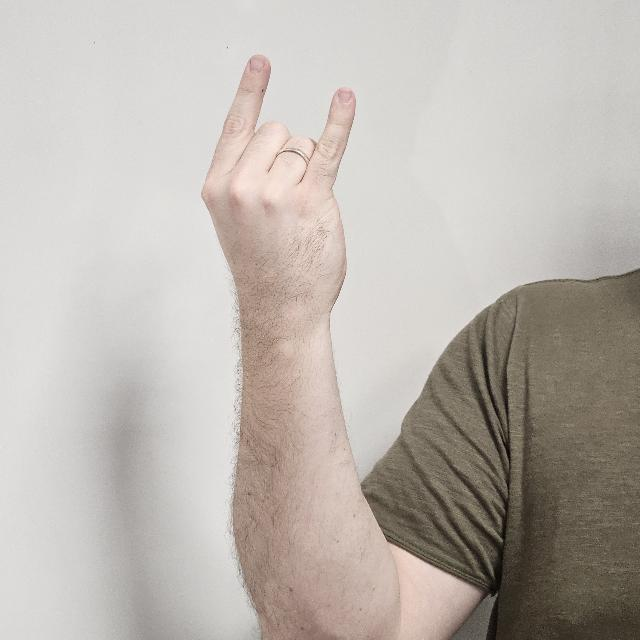L: (202, 53, 358, 330)
